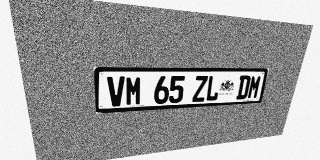5: (169, 76, 185, 103)
6: (154, 76, 170, 104)
D: (236, 75, 251, 100)
L: (205, 76, 221, 101)
M: (125, 76, 142, 106), (247, 75, 262, 99)
V: (107, 76, 125, 107)
Z: (192, 76, 208, 102)
